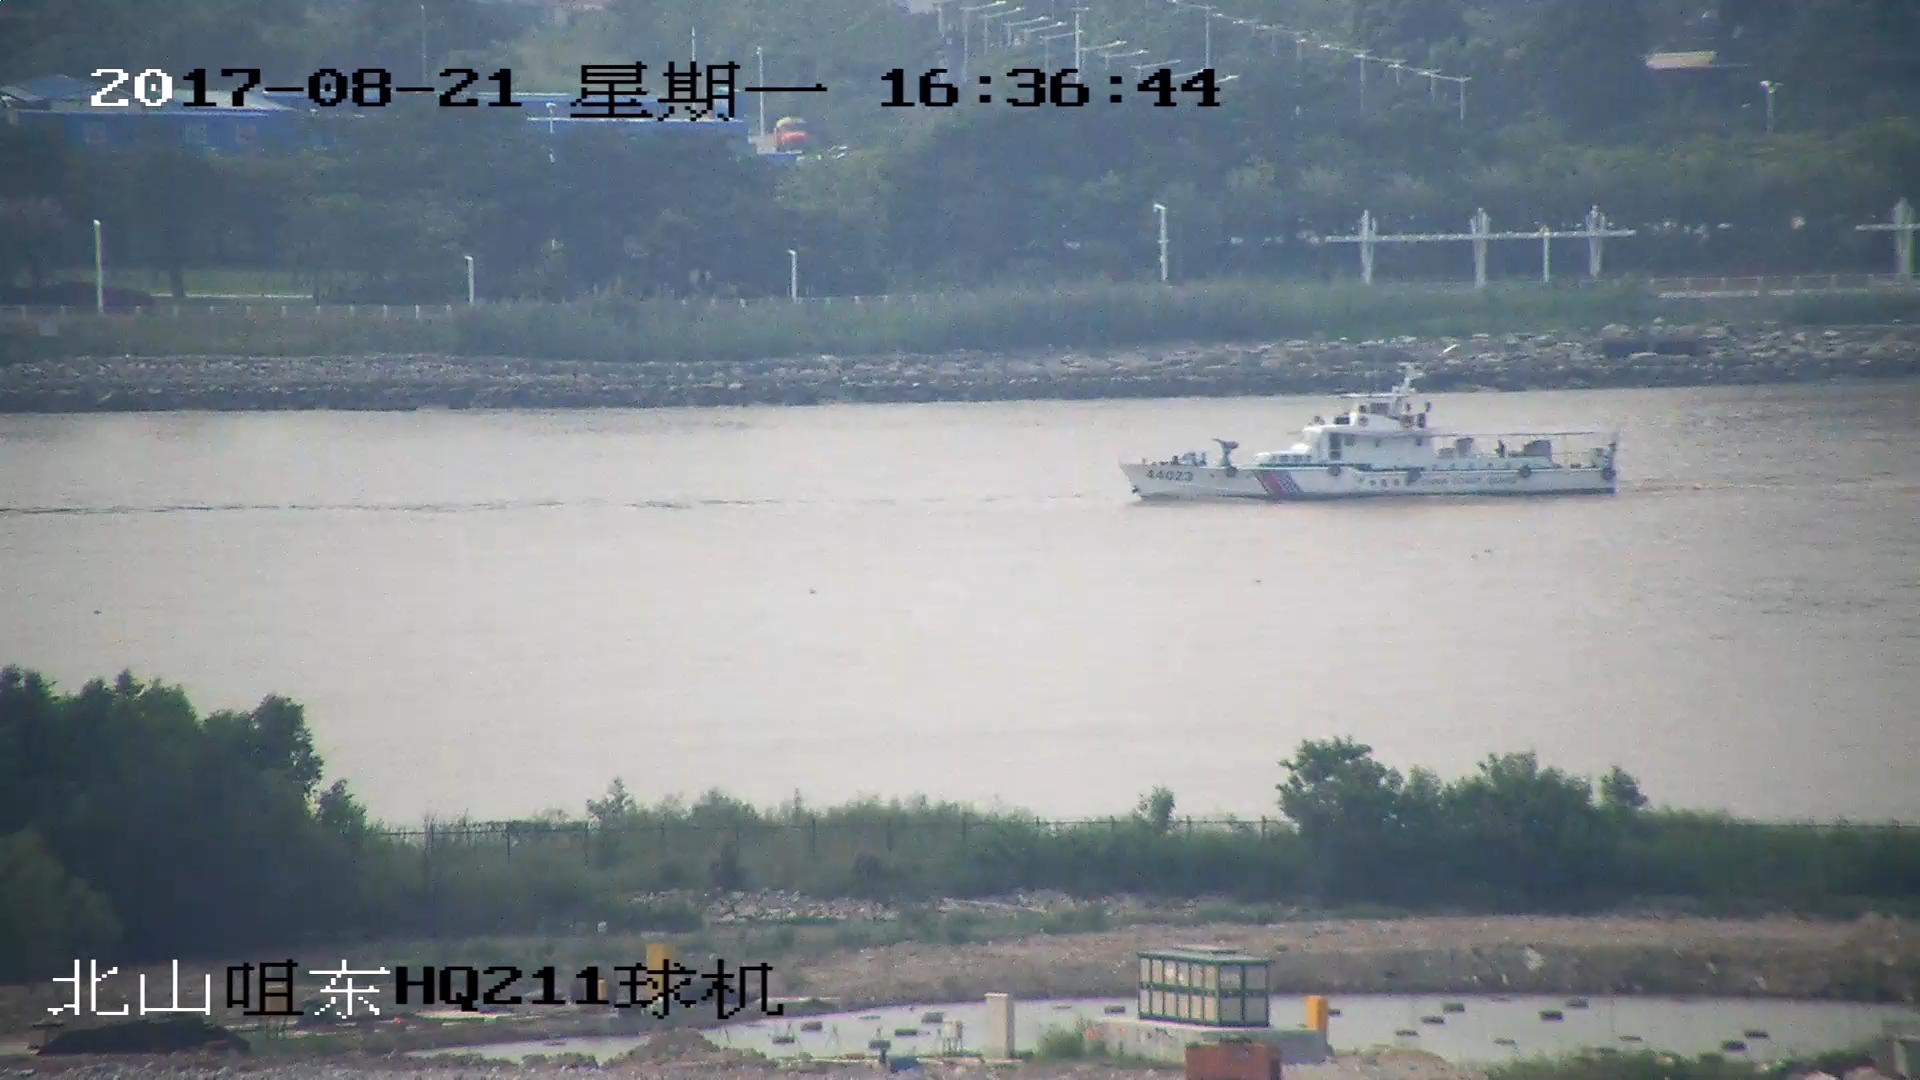passenger ship: (1124, 367, 1618, 499)
